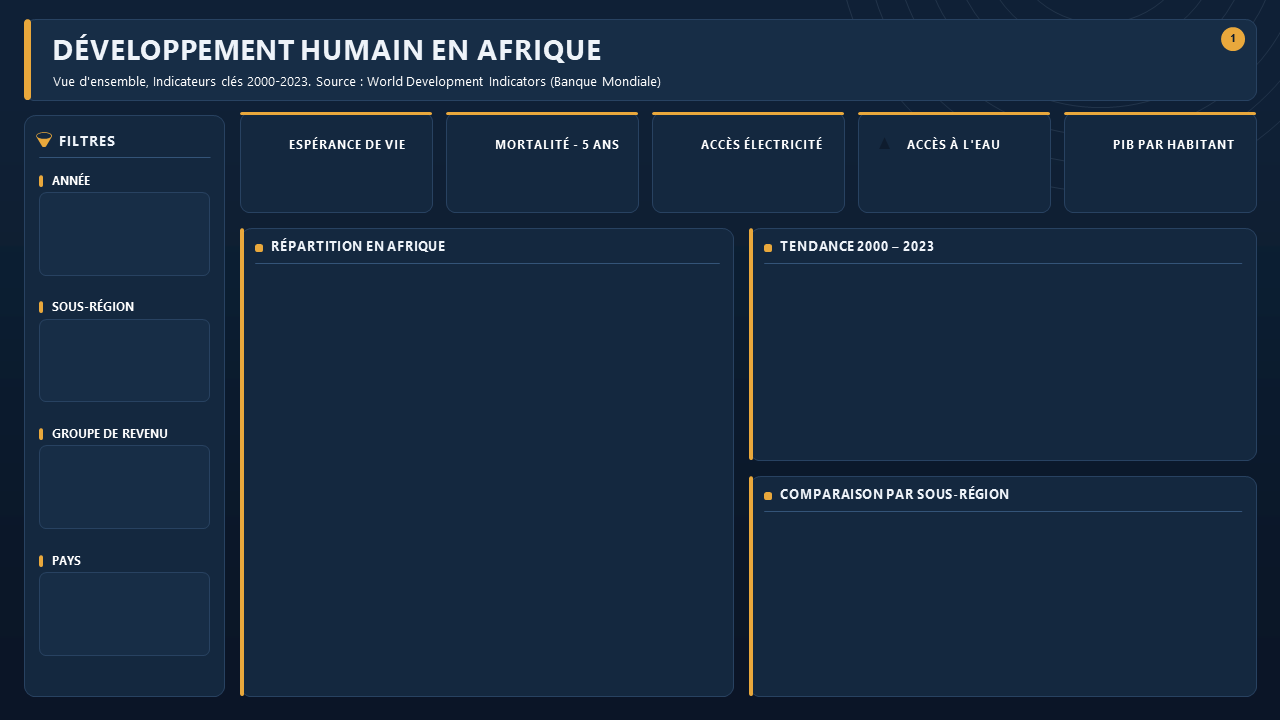

This screenshot's page, from the dashboard's own definition file:
{"tool":"powerbi","page":{"name":"Page 1","canvas":[1280,720],"ordinal":0},"visuals":[{"type":"filledMap","fields":{"Category":["FaitAfrique.Country Code"]},"box":[249.2,267.7,478.4,416.9],"z":0},{"type":"slicer","fields":{"Values":["FaitAfrique.Year"]},"box":[33.6,190.2,173.4,78.3],"z":1000},{"type":"slicer","fields":{"Values":["FaitAfrique.SubRegion"]},"box":[33.6,311.3,173.4,85.8],"z":2000},{"type":"image","box":[1125,10.9,75,87.5],"z":3000},{"type":"image","box":[240.5,115.6,48.5,52.2],"z":4000},{"type":"image","box":[449.3,115.6,42.9,52.2],"z":5000},{"type":"image","box":[662.1,121.2,42.4,40.9],"z":6000},{"type":"image","box":[863.6,116.7,42.4,47],"z":7000},{"type":"image","box":[1072.7,124.2,34.8,36.4],"z":8000},{"type":"slicer","fields":{"Values":["FaitAfrique.IncomeGroupFR"]},"box":[33.3,448.5,172.7,86.4],"z":9000},{"type":"slicer","fields":{"Values":["FaitAfrique.Country"]},"box":[32.8,571.9,173.4,85.9],"z":10000},{"type":"card","fields":{"Values":["_Mesures.Espérance de vie (dernière année)"]},"box":[262.5,159.4,156.2,48.4],"z":11000},{"type":"card","fields":{"Values":["_Mesures.Mortalité -5 ans (dernière année)"]},"box":[470.3,156.2,140.6,48.4],"z":12000},{"type":"card","fields":{"Values":["_Mesures.Accès électricité (dernière année)"]},"box":[658.5,156.9,181.5,47.7],"z":13000},{"type":"card","fields":{"Values":["_Mesures.Accès eau (dernière année)"]},"box":[889.1,157.8,129.7,48.4],"z":14000},{"type":"card","fields":{"Values":["_Mesures.PIB par habitant (dernière année)"]},"box":[1098.4,156.2,139.1,48.4],"z":15000},{"type":"lineChart","fields":{"Category":["FaitAfrique.Year"],"Y":["_Mesures.Espérance de vie"]},"box":[756.2,268.8,493.7,179.7],"z":16000},{"type":"image","box":[249.2,572.3,290.8,80],"z":17000},{"type":"clusteredColumnChart","fields":{"Category":["FaitAfrique.SubRegion"],"Y":["_Mesures.Espérance de vie (dernière année)"]},"box":[756.9,513.8,493.8,173.8],"z":18000}]}

Visuals, with their boxes in screenshot pixels (x1, y1, x2, y2), scaled from the page's 1280x720 canvas onto the 1280x720 screenshot:
filledMap - FaitAfrique.Country Code: 249/268/728/685
slicer - FaitAfrique.Year: 34/190/207/268
slicer - FaitAfrique.SubRegion: 34/311/207/397
image: 1125/11/1200/98
image: 240/116/289/168
image: 449/116/492/168
image: 662/121/704/162
image: 864/117/906/164
image: 1073/124/1108/161
slicer - FaitAfrique.IncomeGroupFR: 33/448/206/535
slicer - FaitAfrique.Country: 33/572/206/658
card - _Mesures.Espérance de vie (dernière année): 262/159/419/208
card - _Mesures.Mortalité -5 ans (dernière année): 470/156/611/205
card - _Mesures.Accès électricité (dernière année): 658/157/840/205
card - _Mesures.Accès eau (dernière année): 889/158/1019/206
card - _Mesures.PIB par habitant (dernière année): 1098/156/1238/205
lineChart - FaitAfrique.Year x _Mesures.Espérance de vie: 756/269/1250/448
image: 249/572/540/652
clusteredColumnChart - FaitAfrique.SubRegion x _Mesures.Espérance de vie (dernière année): 757/514/1251/688
